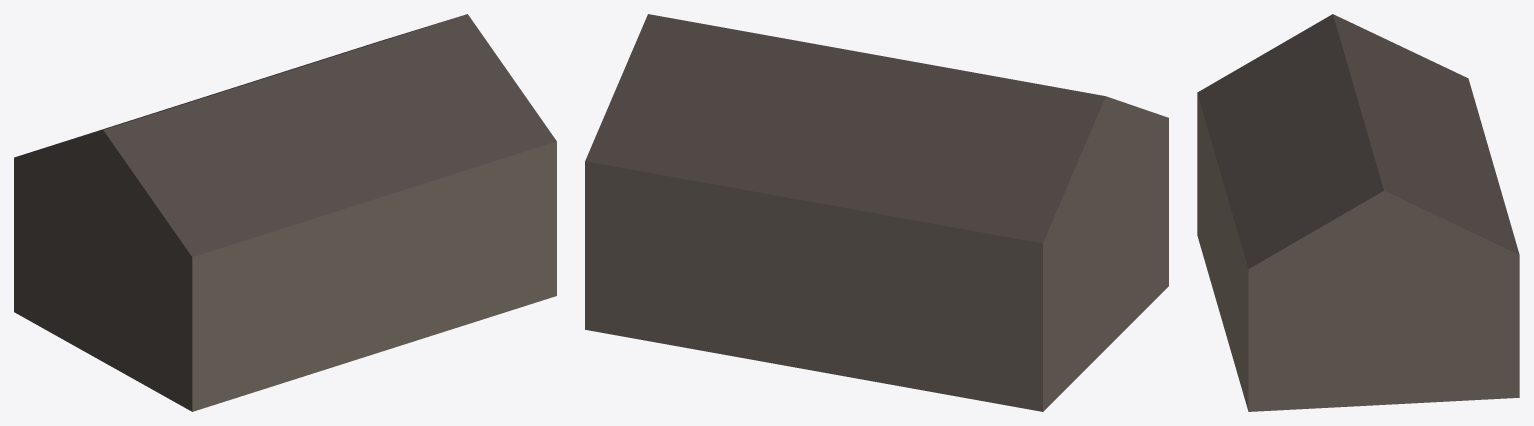
3 views of the same model, side by side, from view 1: azimuth 30°, elevation 25°; view 2: azimuth 150°, elevation 25°; view 3: azimuth 270°, elevation 25° (orthographic). The views are drawn at different scales.
Parts seen in each view (by area): view 1: HP-w859467762; view 2: HP-w859467762; view 3: HP-w859467762.
Boxes of the visible parts, bbox=[...] form: HP-w859467762: bbox=[14, 14, 556, 411]; HP-w859467762: bbox=[585, 14, 1168, 411]; HP-w859467762: bbox=[1197, 14, 1519, 411].
Bounding box in the file's own units: 25.81 × 13.51 × 18.43.
